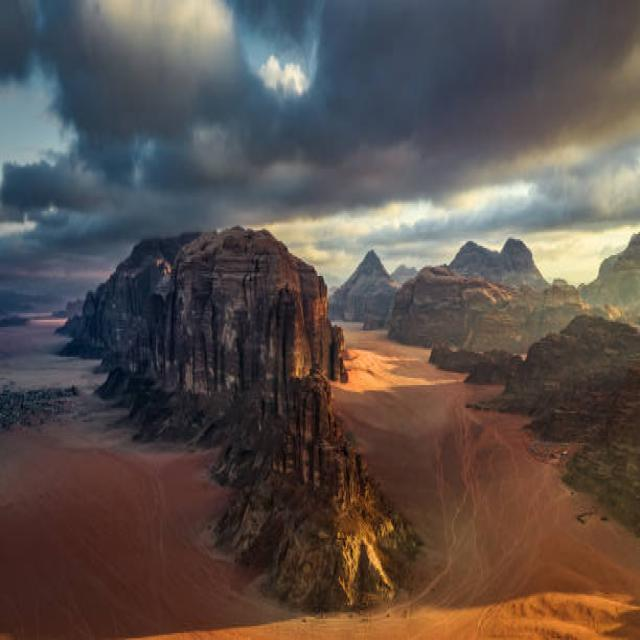Sedimentary: (68, 227, 351, 406), (241, 394, 411, 605)
